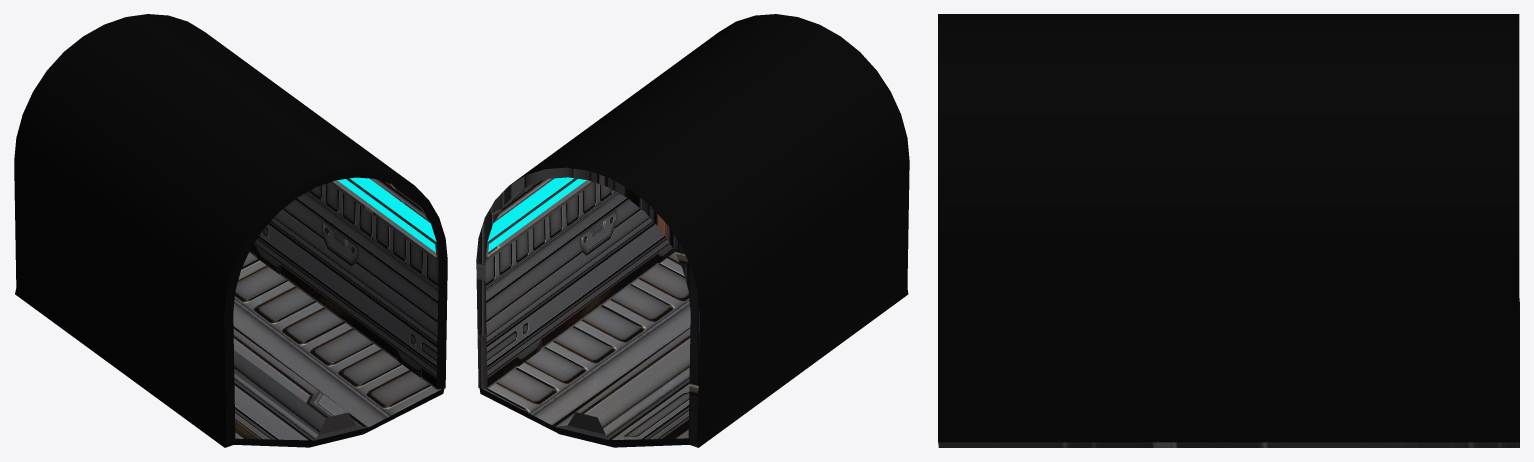
File: Tunnel 2.fbx
The picture shows the model from 3 angles, left to right: view 1: azimuth 30°, elevation 25°; view 2: azimuth 150°, elevation 25°; view 3: azimuth 270°, elevation 25°; orthographic projection. The views are drawn at different scales.
Parts seen in each view (by area): view 1: Cylinder.058; view 2: Cylinder.058; view 3: Cylinder.058.
Boxes of the visible parts, box(x1,y1,x2,y2) form: Cylinder.058: box(14, 14, 447, 447); Cylinder.058: box(476, 14, 909, 447); Cylinder.058: box(938, 14, 1519, 447).
Size of the model in its own units: 1181 by 1366 by 1924.
